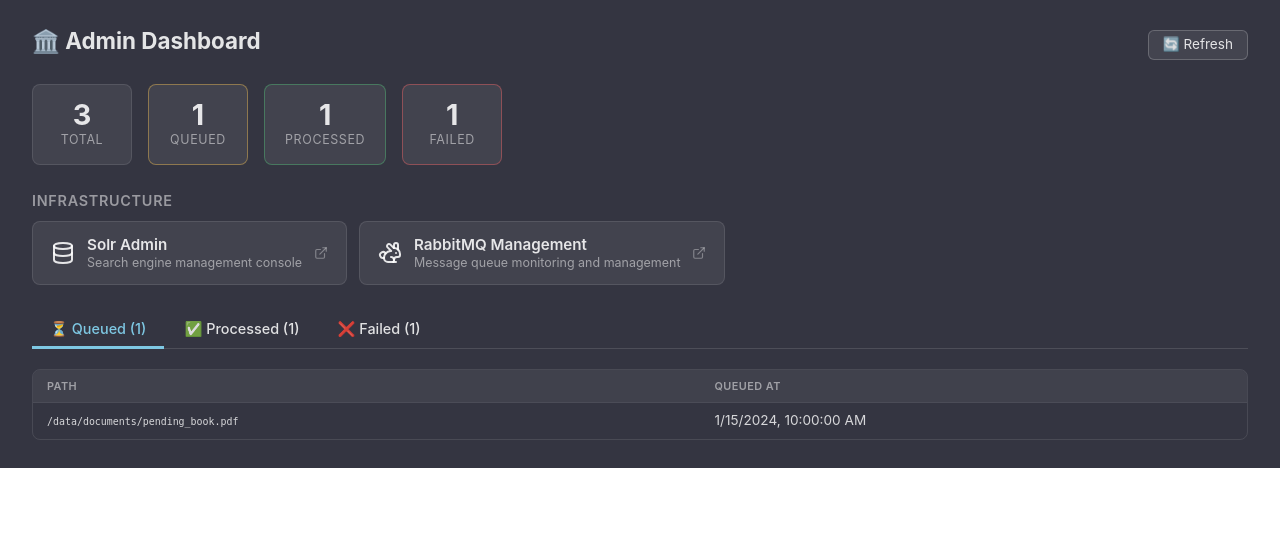
Test: AdminPage › switches to the failed tab and shows failed documents with requeue button
The image size is (1280, 540).
Click the tab "❌ Failed (1)": [379, 331] box [320, 313, 439, 349]
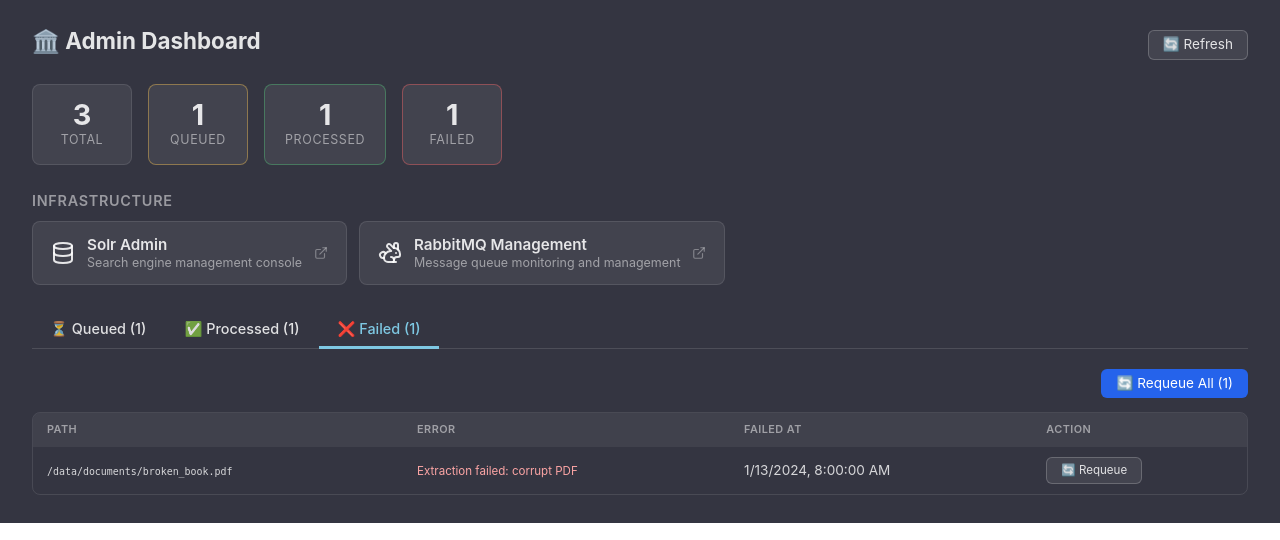
Expected: the text "/data/documents/broken_book.pdf" is shown, [47, 466, 232, 477]
Expected: the text "Extraction failed: corrupt PDF" is shown, [417, 464, 578, 478]
Expected: the button "🔄 Requeue" is shown, [1046, 457, 1142, 484]
